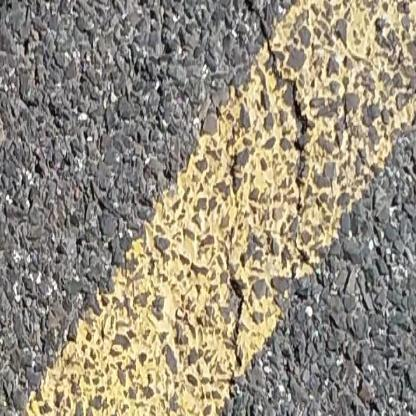Cracks: (251, 28, 347, 256), (192, 246, 283, 416), (204, 0, 299, 99), (0, 0, 40, 110)
